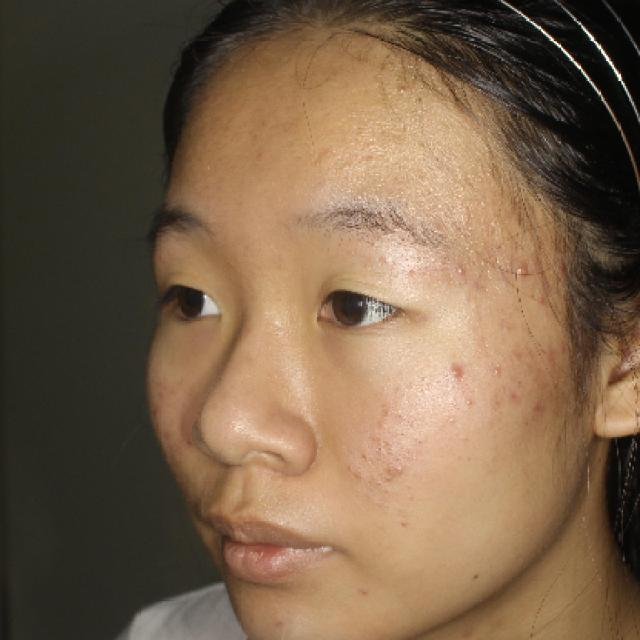acne: (443, 356, 474, 390), (458, 388, 490, 412), (448, 258, 472, 284), (389, 80, 414, 102), (488, 360, 510, 382), (390, 460, 410, 477), (508, 260, 526, 278)
